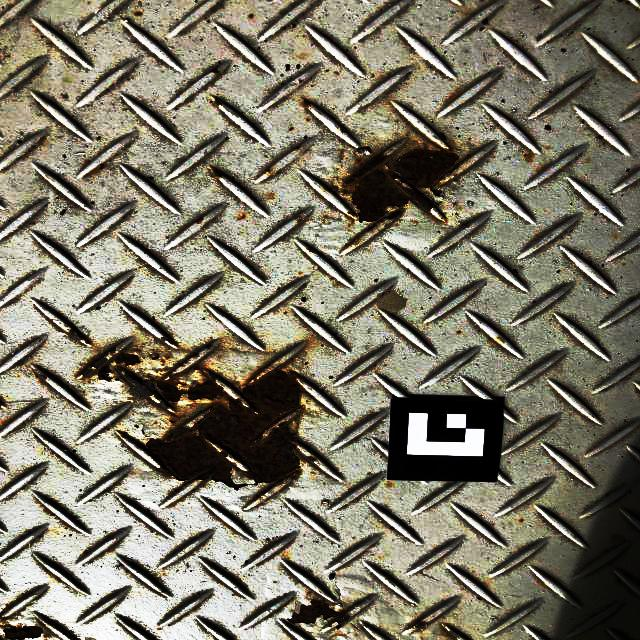Corrosion: (76, 341, 317, 503), (332, 134, 472, 248), (283, 591, 351, 629), (0, 611, 50, 640), (44, 505, 80, 534), (35, 617, 56, 637), (68, 329, 91, 345), (441, 624, 461, 640), (105, 537, 124, 553), (412, 618, 429, 634), (33, 368, 48, 384), (445, 91, 462, 105), (160, 334, 179, 346), (17, 337, 36, 348), (54, 451, 70, 462), (111, 474, 127, 485), (0, 416, 15, 427), (85, 167, 100, 176), (212, 168, 225, 178), (214, 97, 223, 108), (322, 214, 332, 223), (303, 99, 313, 108), (0, 395, 6, 410), (209, 66, 220, 74), (526, 151, 534, 162), (294, 215, 303, 223), (28, 465, 39, 471), (339, 127, 348, 134), (285, 567, 292, 576), (291, 145, 301, 151), (39, 137, 46, 145), (196, 217, 203, 224), (239, 213, 246, 220), (263, 169, 271, 174), (4, 603, 12, 608), (248, 13, 254, 18), (135, 12, 142, 16), (120, 434, 124, 439), (157, 627, 163, 630), (289, 127, 293, 131), (307, 118, 309, 122)
